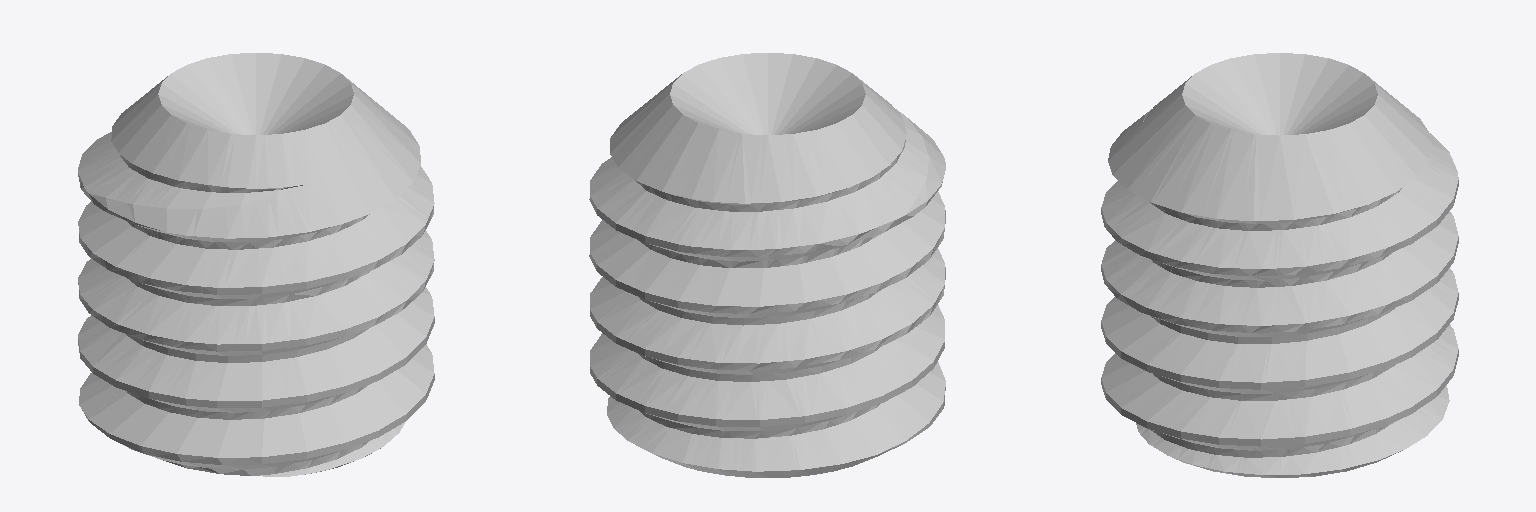
Rendered from T200_01_T200STEP_T200STEPSTEP_T200STEP1_03_T200STEP1.obj.
3 renders of one model, left to right at view 1: azimuth 30°, elevation 25°; view 2: azimuth 150°, elevation 25°; view 3: azimuth 270°, elevation 25°, orthographic.
Size of the model in its own units: 0.004 by 0.004 by 0.004.